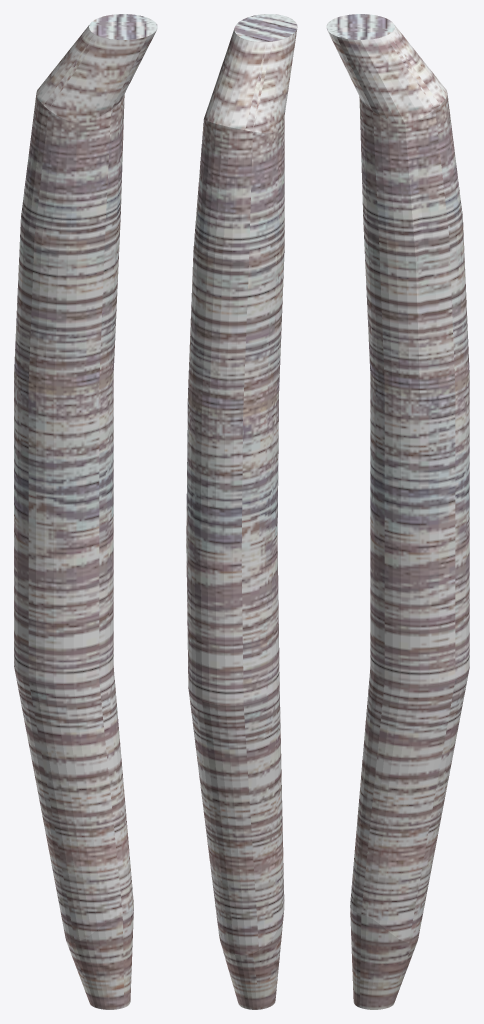
The model's file is Axe aud handle.obj.
The picture shows the model from 3 angles, left to right: view 1: azimuth 90°, elevation 25°; view 2: azimuth 150°, elevation 25°; view 3: azimuth 270°, elevation 25°; orthographic projection.
Visible parts, largest first — view 1: Handle1; view 2: Handle1; view 3: Handle1.
Boxes of the visible parts, bbox=[...] form: Handle1: bbox=[14, 14, 157, 1009]; Handle1: bbox=[186, 14, 297, 1009]; Handle1: bbox=[326, 14, 469, 1009].
Size of the model in its own units: 0.2935 by 3.34 by 0.446.
